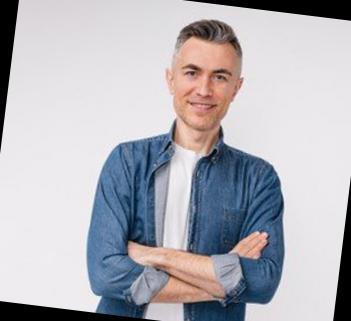Sober: (174, 40, 236, 129)
